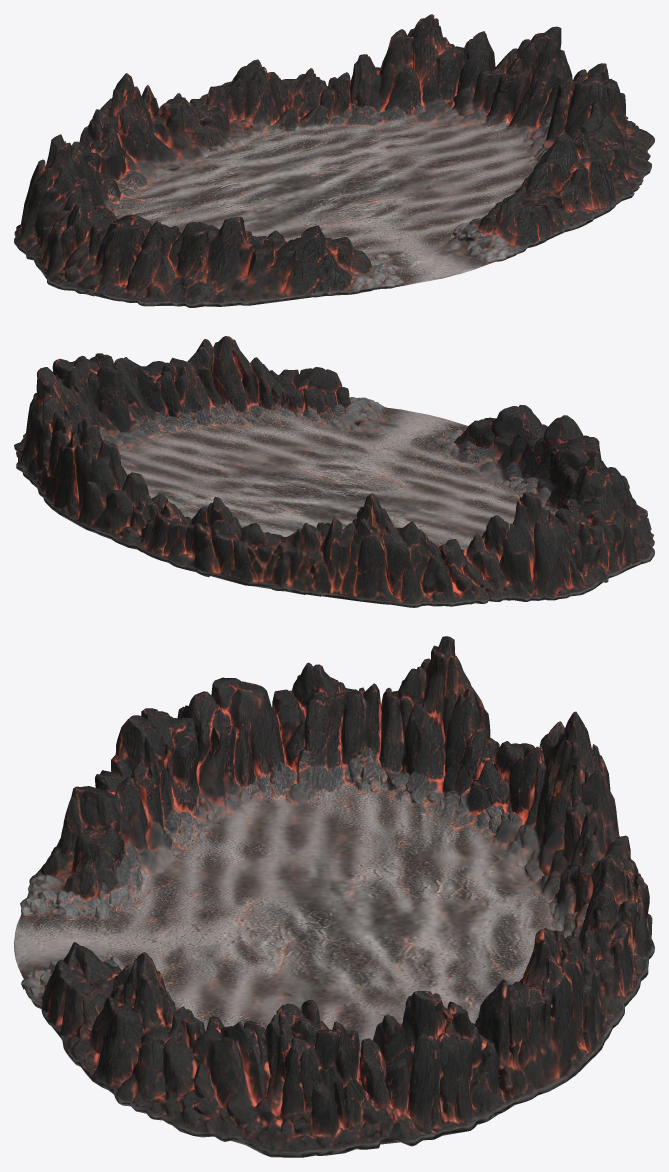
Rendered from Meshy_AI_Volcanic_Crater_Terrain_20261030_texture.fbx.
3 views of the same model, one above another, from view 1: azimuth 30°, elevation 25°; view 2: azimuth 150°, elevation 25°; view 3: azimuth 270°, elevation 25° (orthographic). The views are drawn at different scales.
Parts seen in each view (by area): view 1: Mesh_0; view 2: Mesh_0; view 3: Mesh_0.
Boxes of the visible parts, bbox=[...] form: Mesh_0: bbox=[14, 14, 654, 307]; Mesh_0: bbox=[14, 336, 654, 607]; Mesh_0: bbox=[14, 636, 654, 1157].
Bounding box in the file's own units: 200 × 30.59 × 125.
1 material, 1 textured.
